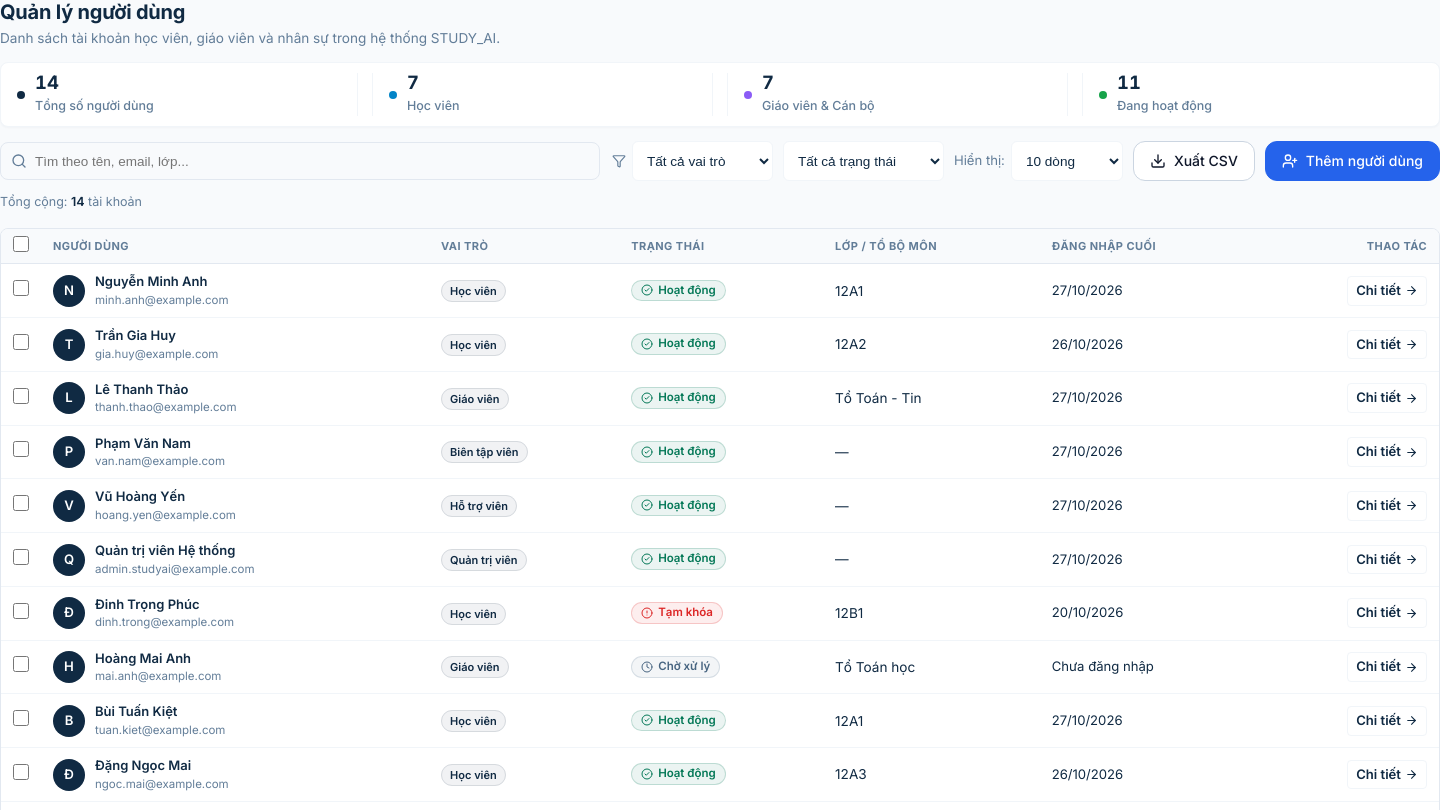
Test: Admin Workspace V2 UI Tests › AdminUsersPage (Search, Filter, Pagination, Add User, Bulk Actions, CSV) › selects multiple accounts and displays bulk actions toolbar
Expected: the text "Nguyễn Minh Anh" is shown, [95, 273, 208, 289]
Click the checkbox named "Chọn tất cả người dùng trên trang này" at (21, 244), box [13, 236, 29, 252]
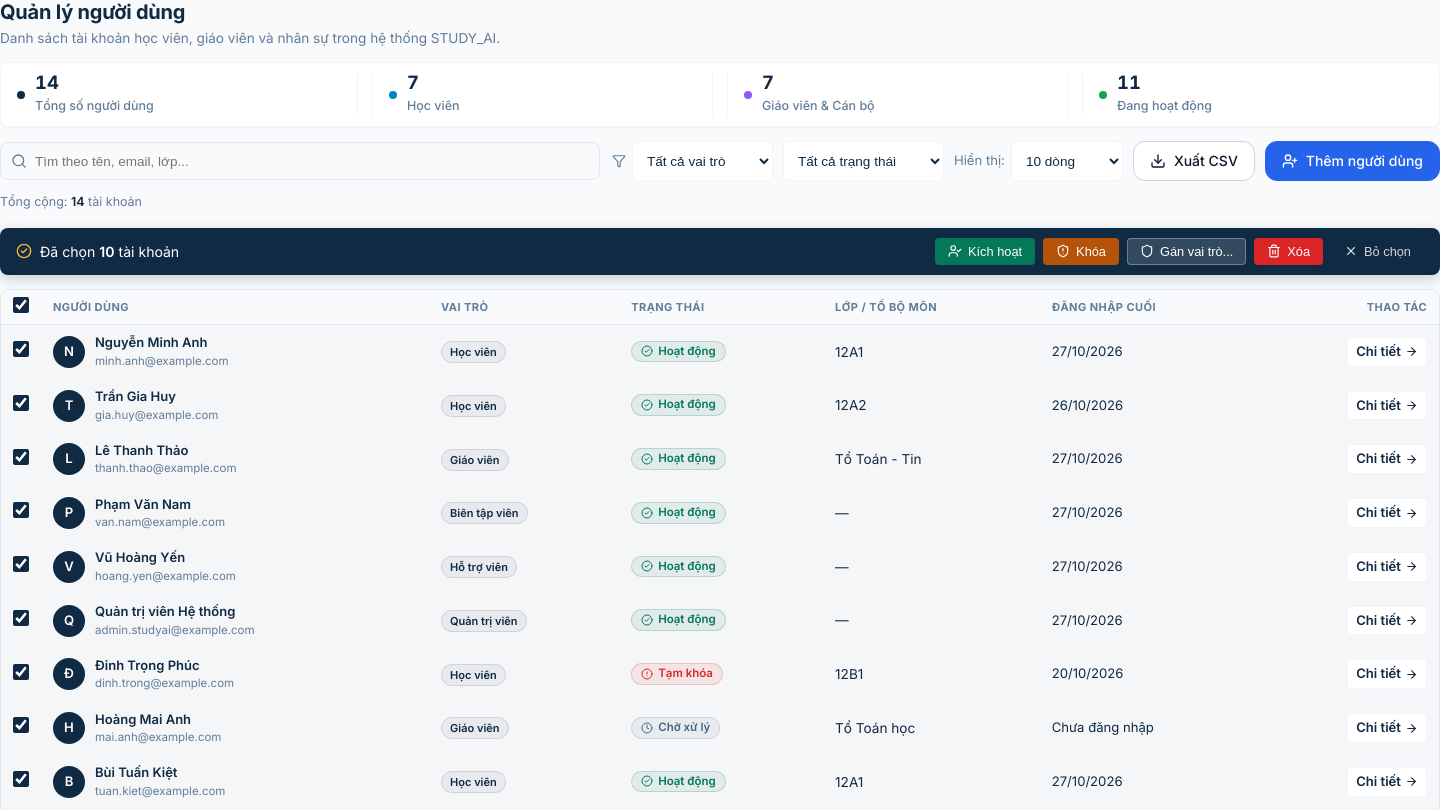
Result: the text "Đã chọn 10 tài khoản" is shown at [40, 241, 179, 262]
Result: the button "Kích hoạt" is shown at [935, 238, 1035, 265]
Result: the button "Khóa" is shown at [1043, 238, 1119, 265]
